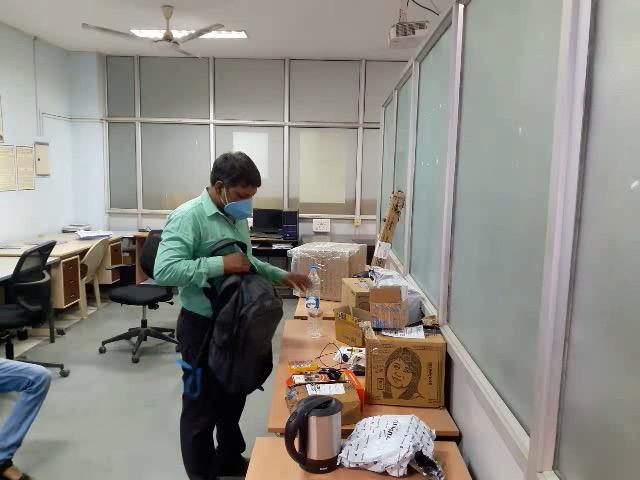shoplifting: (173, 249, 348, 426)
